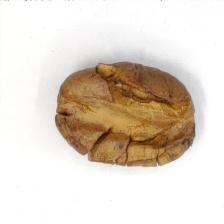NG: (56, 62, 195, 166)
